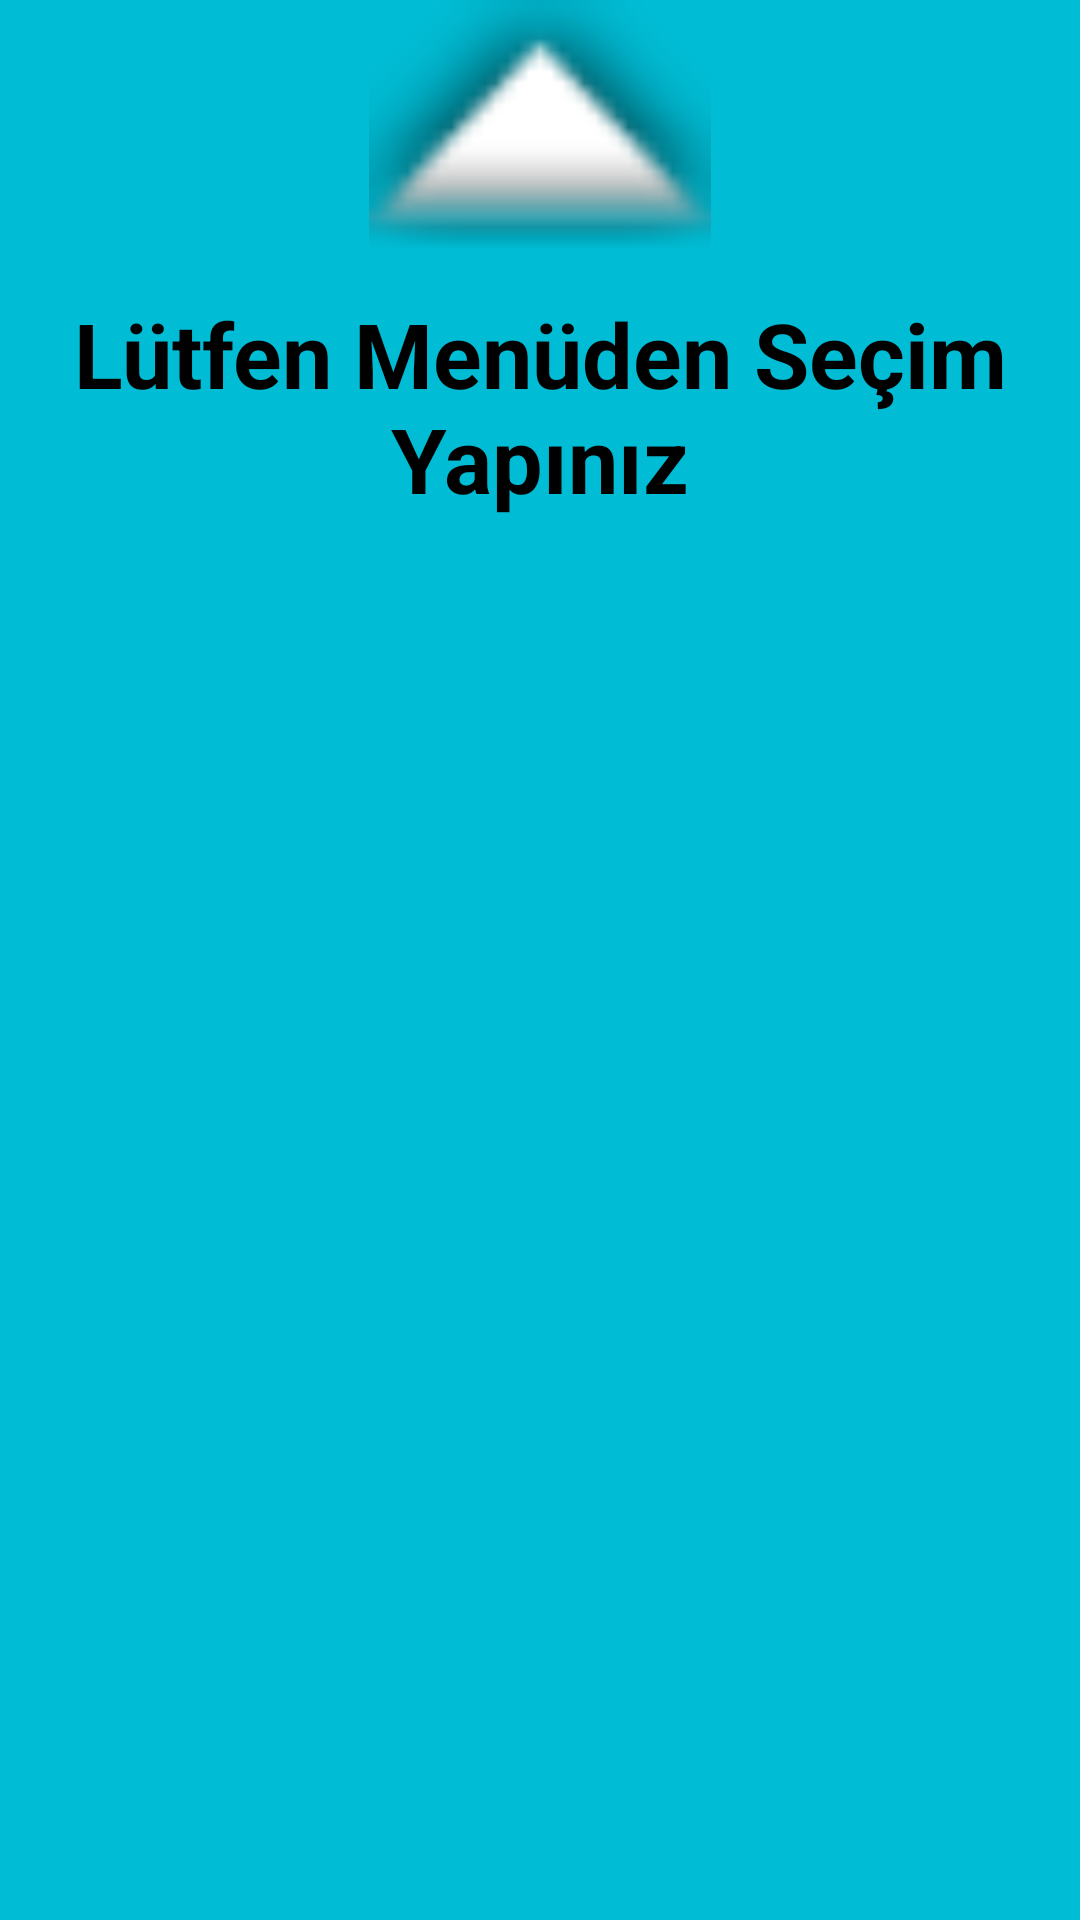

Point at icon controls on the screen. Image size 1080*1920, points as (x,y).
arrow up float: (540,126)
